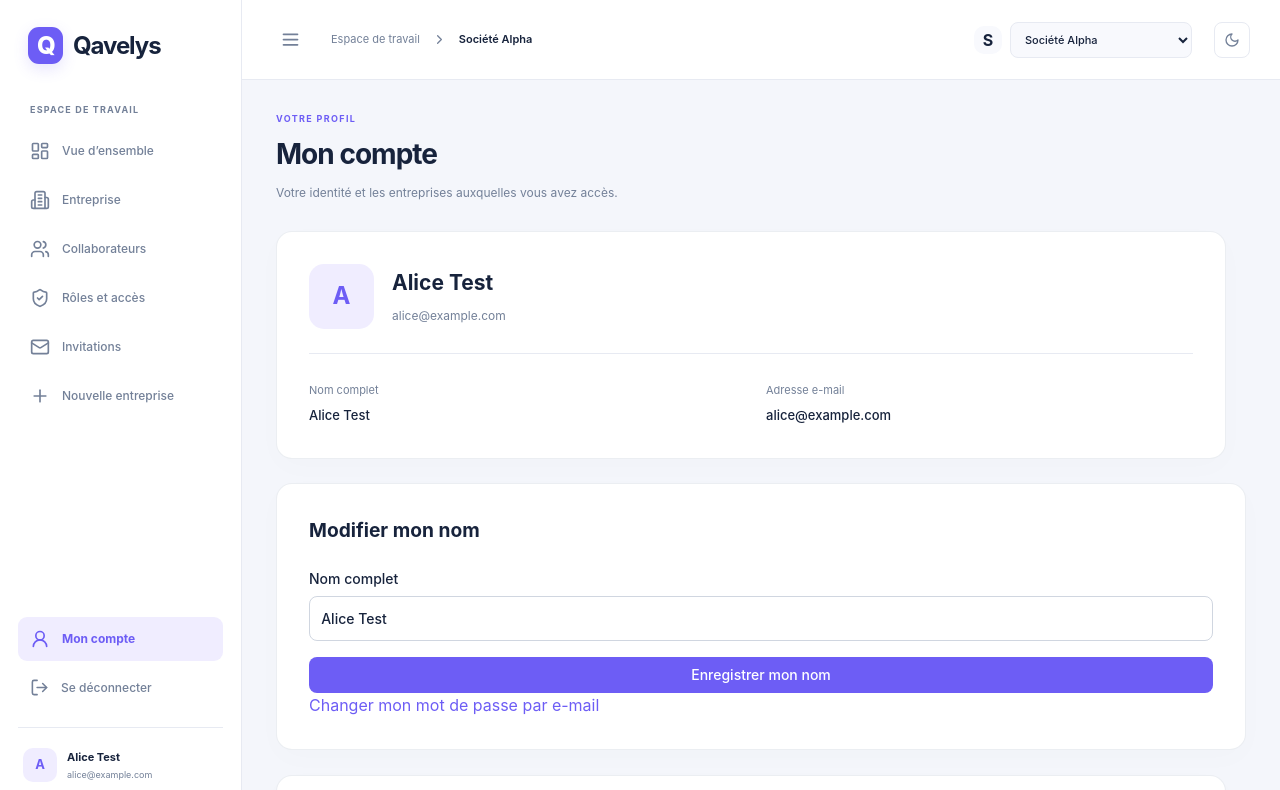
Test case: Navigation reliée aux pages réelles › déconnecte via le backend et ouvre le formulaire de connexion
Expected: the heading "Mon compte" is shown, [276,137,437,171]
Click the button "Se déconnecter". click: (120, 688)
box: [18,666,223,709]
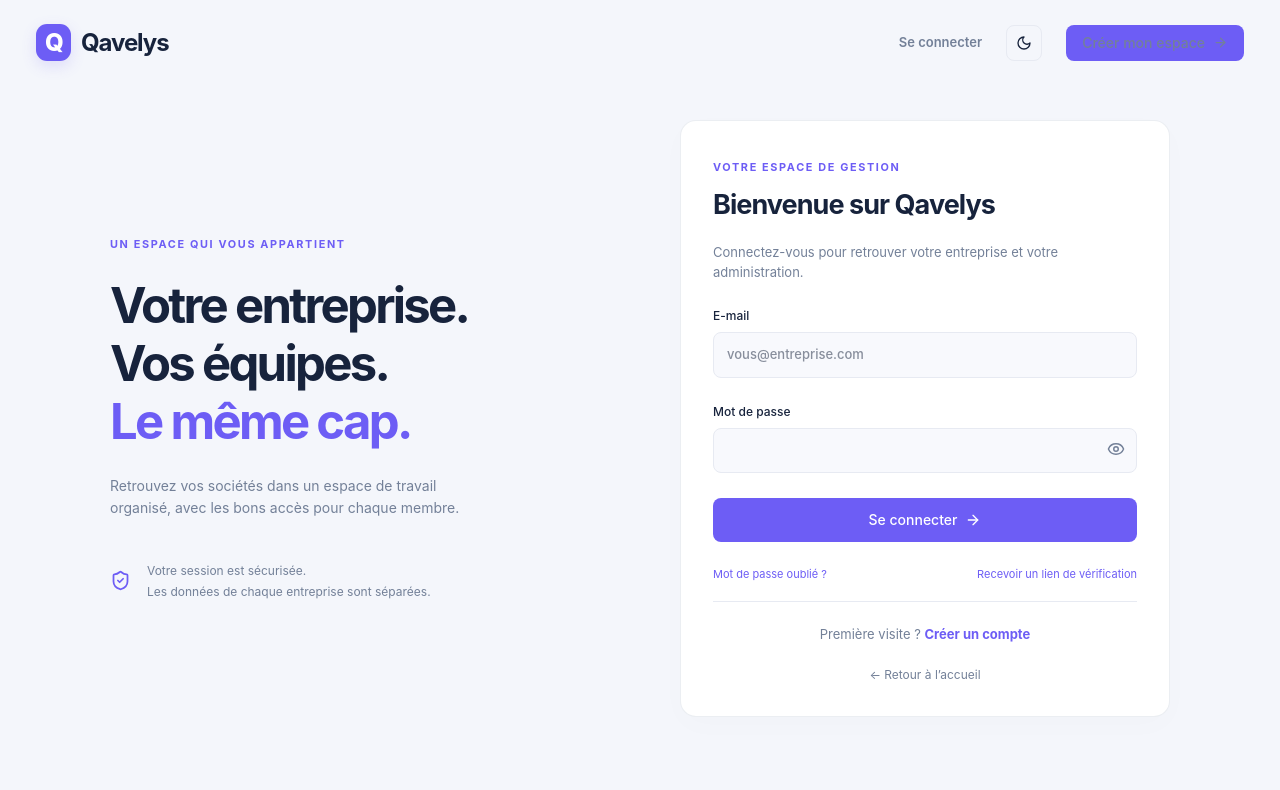
Expected: the heading "Bienvenue sur Qavelys" is shown, [713,188,995,221]
